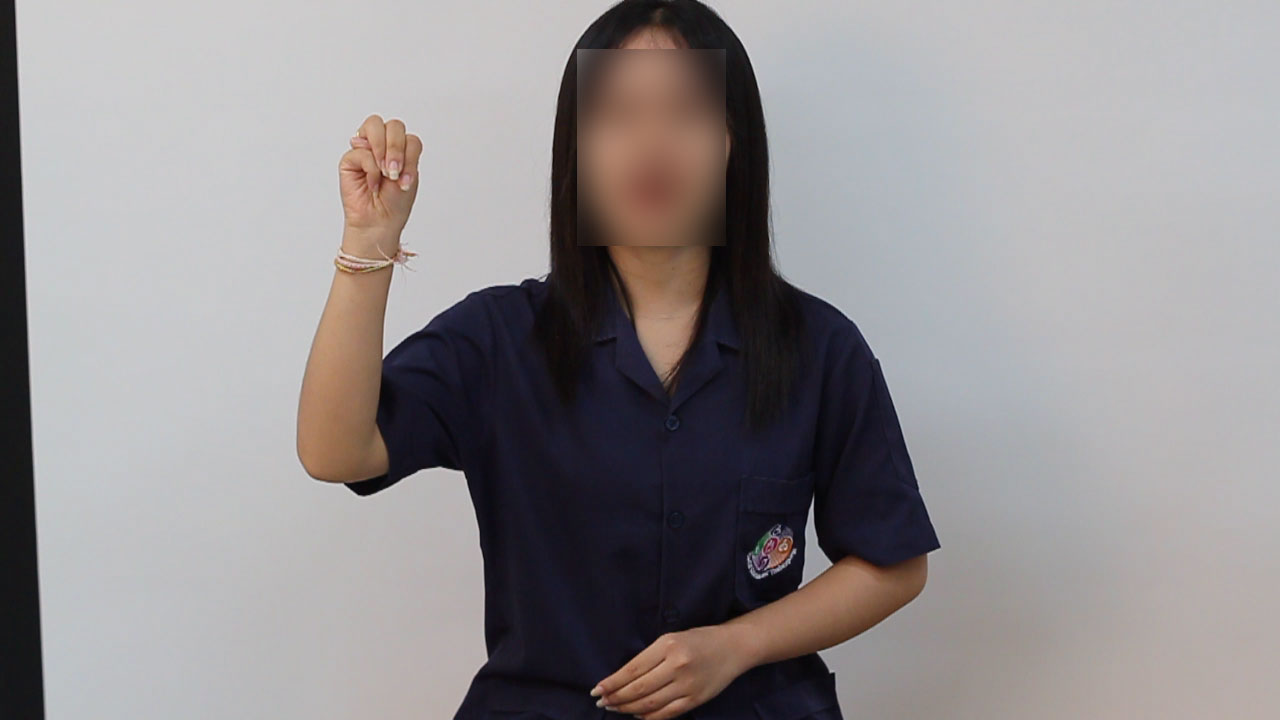mor: (324, 100, 432, 253)
